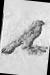G37: (1, 0, 50, 74)
